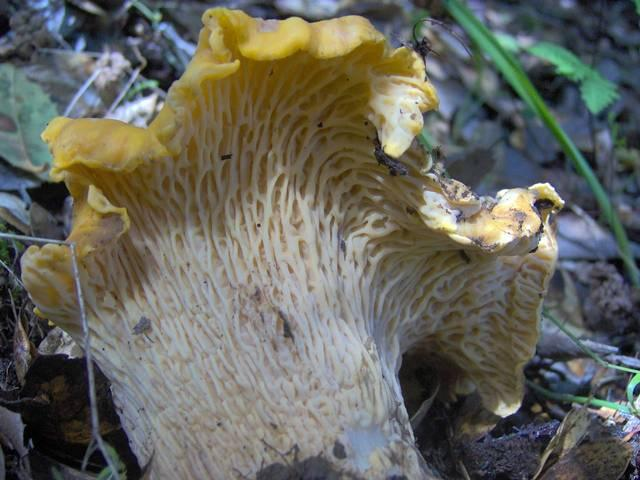edible_mushroom: (19, 6, 565, 479)
